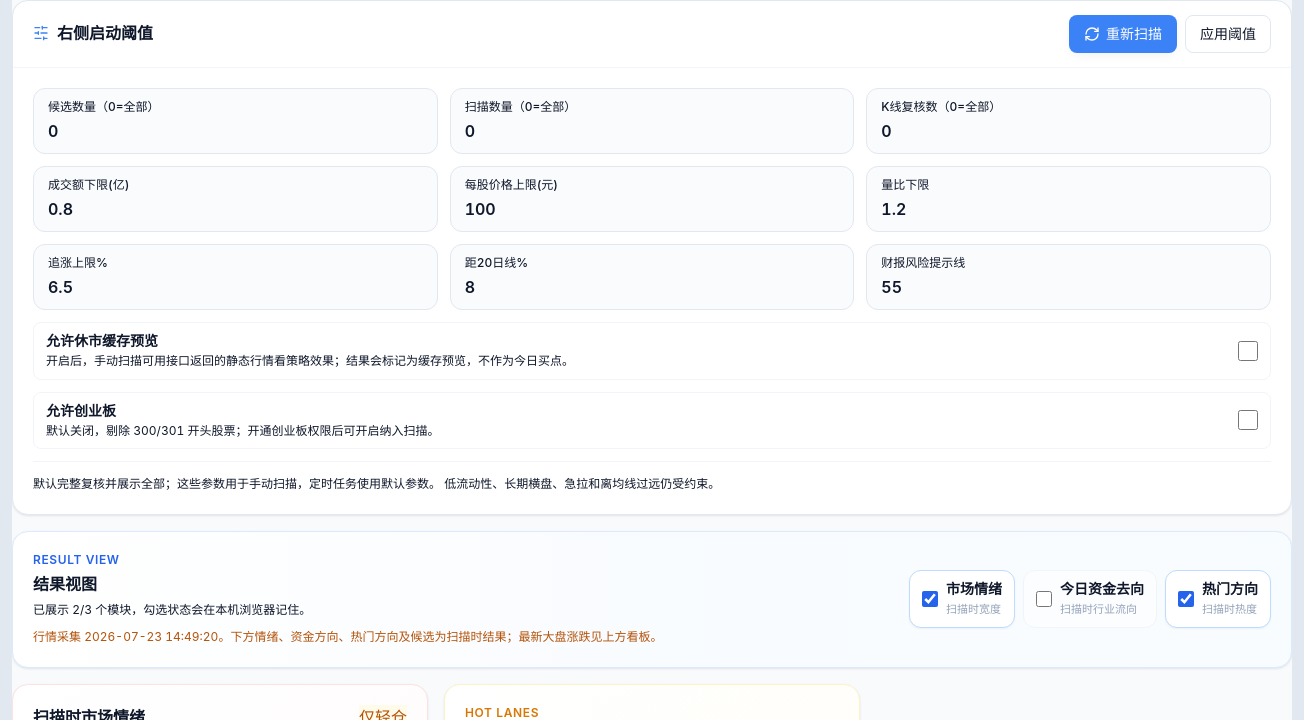
Scenario: ShortTermPage manual scan flow › shows new manual shapes when its right-side report is blocked without retaining the previous run
Click the button "重新扫描". click: (1123, 34)
box: [1069, 15, 1177, 53]
(page scrolled)
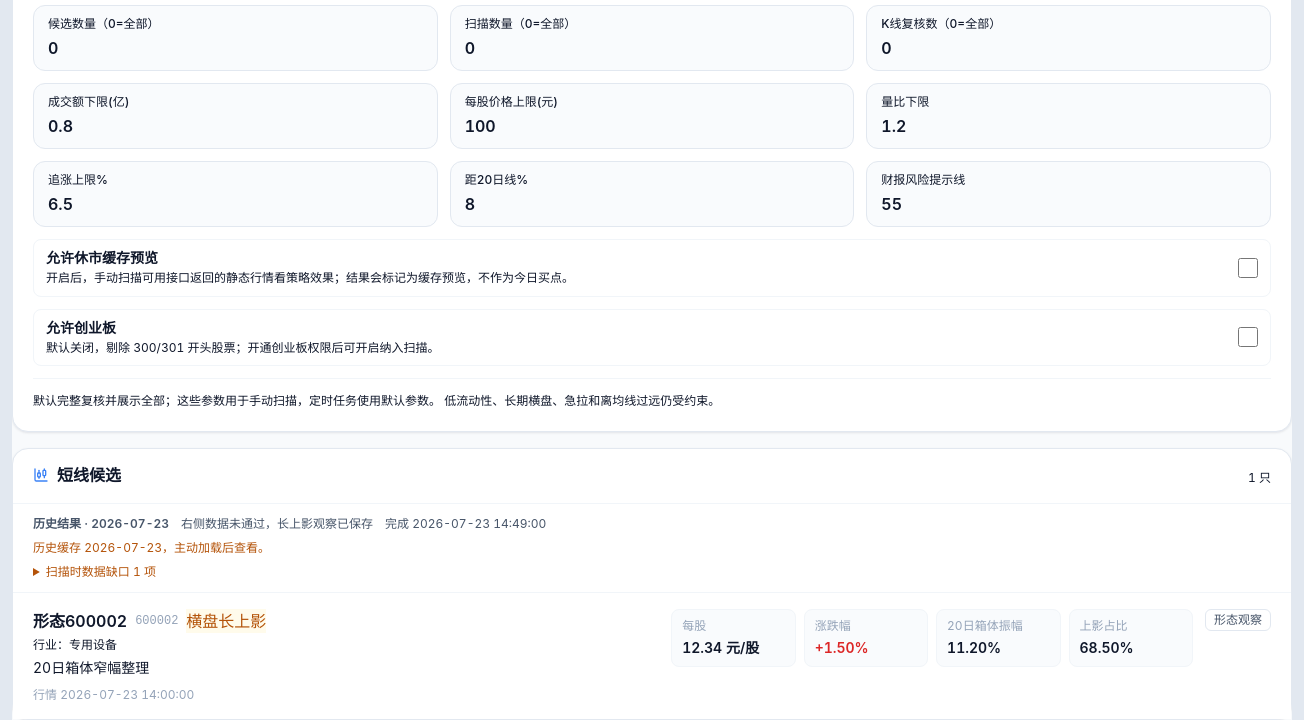
Check: the element named "短线候选列表" shows "形态600002", box [13, 592, 1291, 719]
